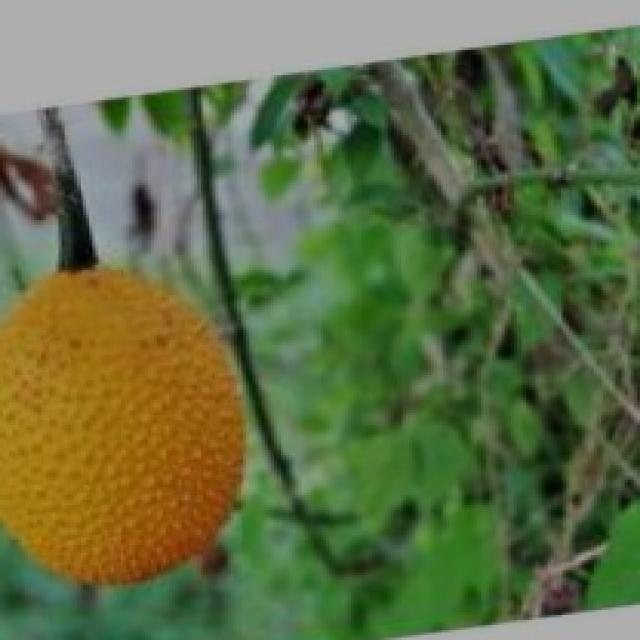Fruit: (0, 247, 289, 625)
